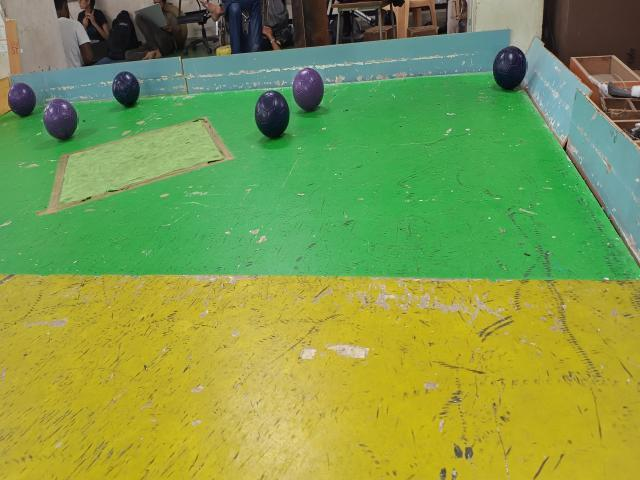jambhalya: (44, 98, 78, 140), (293, 68, 324, 112), (8, 83, 37, 117)
kaalyya: (255, 90, 290, 138), (493, 45, 527, 90), (113, 71, 140, 106)
